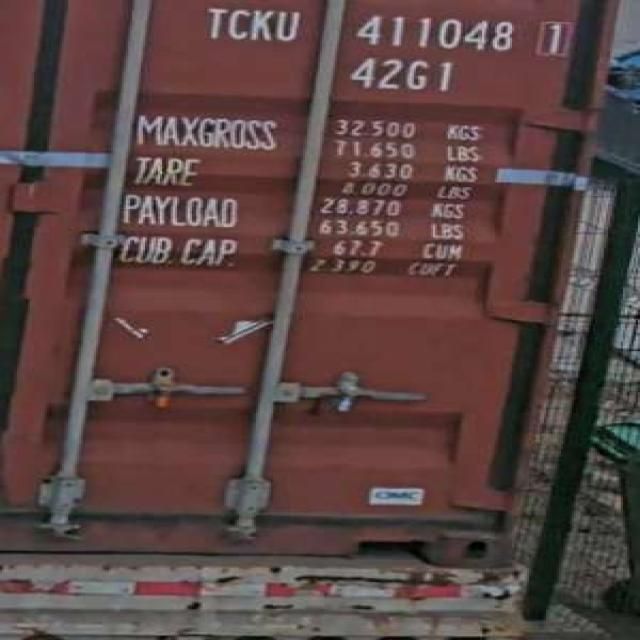dv: (531, 16, 572, 58)
owner: (201, 2, 305, 46)
serial: (350, 12, 516, 54)
size: (343, 54, 461, 97)
